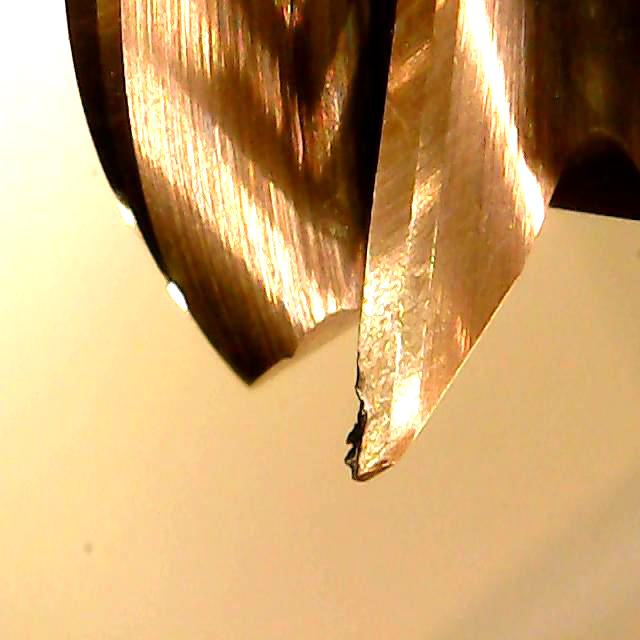Tool-wear-class-1: (331, 252, 456, 478)
